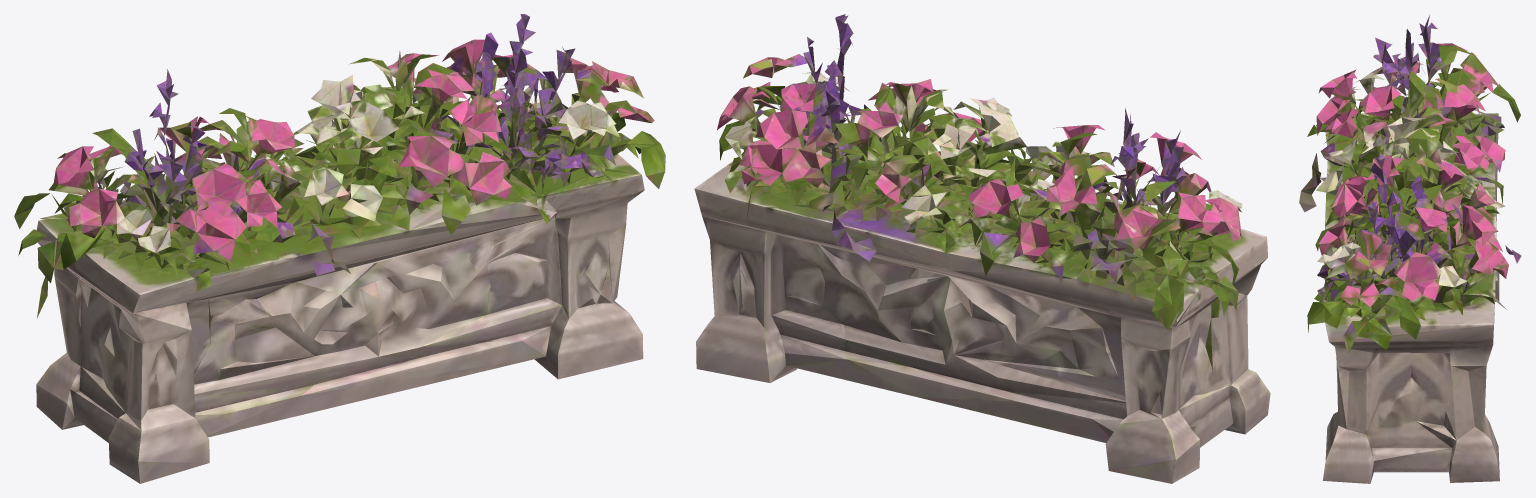
Rendered from town_planter.glb.
3 views of the same model, side by side, from view 1: azimuth 30°, elevation 25°; view 2: azimuth 150°, elevation 25°; view 3: azimuth 270°, elevation 25° (orthographic). The views are drawn at different scales.
Parts seen in each view (by area): view 1: output_unwrapped; view 2: output_unwrapped; view 3: output_unwrapped.
Boxes of the visible parts, x1,y1,x2,y2 form: output_unwrapped: (14,14,665,483); output_unwrapped: (694,14,1270,483); output_unwrapped: (1299,15,1521,483).
Size of the model in its own units: 1.88 by 1.09 by 0.7365.
1 material, 1 textured.
